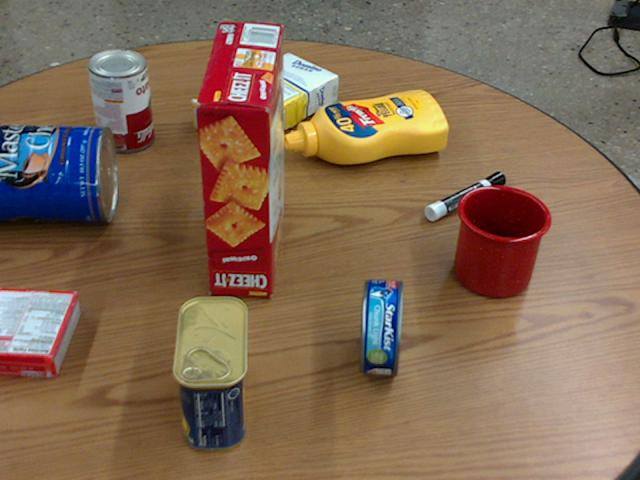cracker_box: (193, 22, 283, 296)
gelatin_box: (0, 287, 81, 376)
large_marker: (425, 172, 506, 220)
master_chef_can: (0, 124, 115, 222)
mug: (454, 184, 552, 297)
mustard_bottle: (283, 91, 448, 162)
potted_meat_can: (174, 296, 248, 451)
sugar_box: (193, 51, 339, 153)
tomato_soup_can: (87, 49, 152, 152)
tuna_fish_can: (359, 278, 402, 376)
